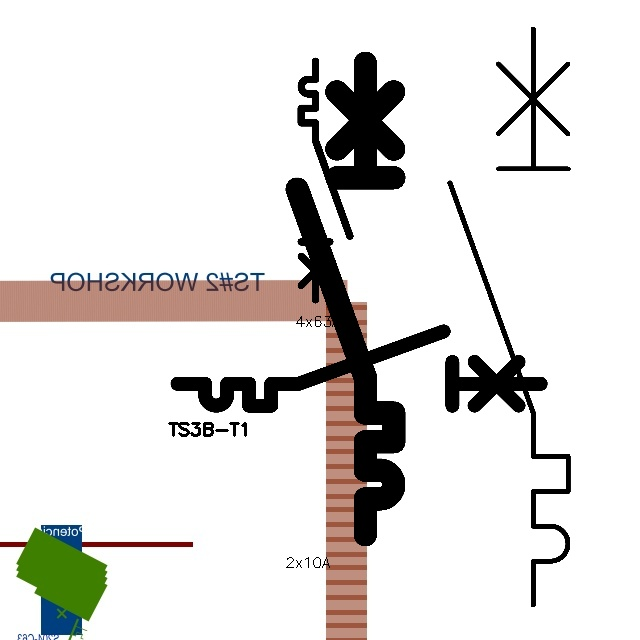interruptor_termomagnetico: (435, 14, 583, 620), (285, 51, 406, 547), (168, 322, 550, 415), (295, 55, 356, 305)
